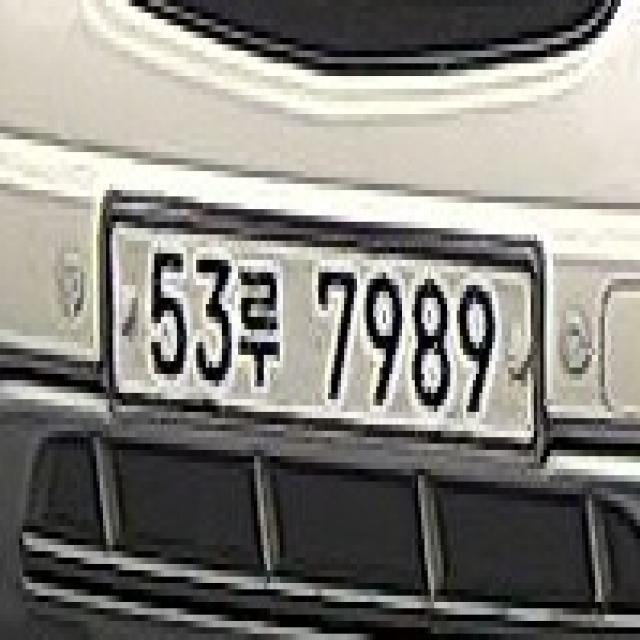3: (187, 234, 241, 406)
5: (144, 235, 187, 386)
7: (309, 247, 360, 399)
8: (402, 266, 457, 425)
9: (453, 266, 505, 425), (361, 260, 408, 418)
license_plate: (93, 178, 553, 462)
lu: (228, 260, 280, 386)
